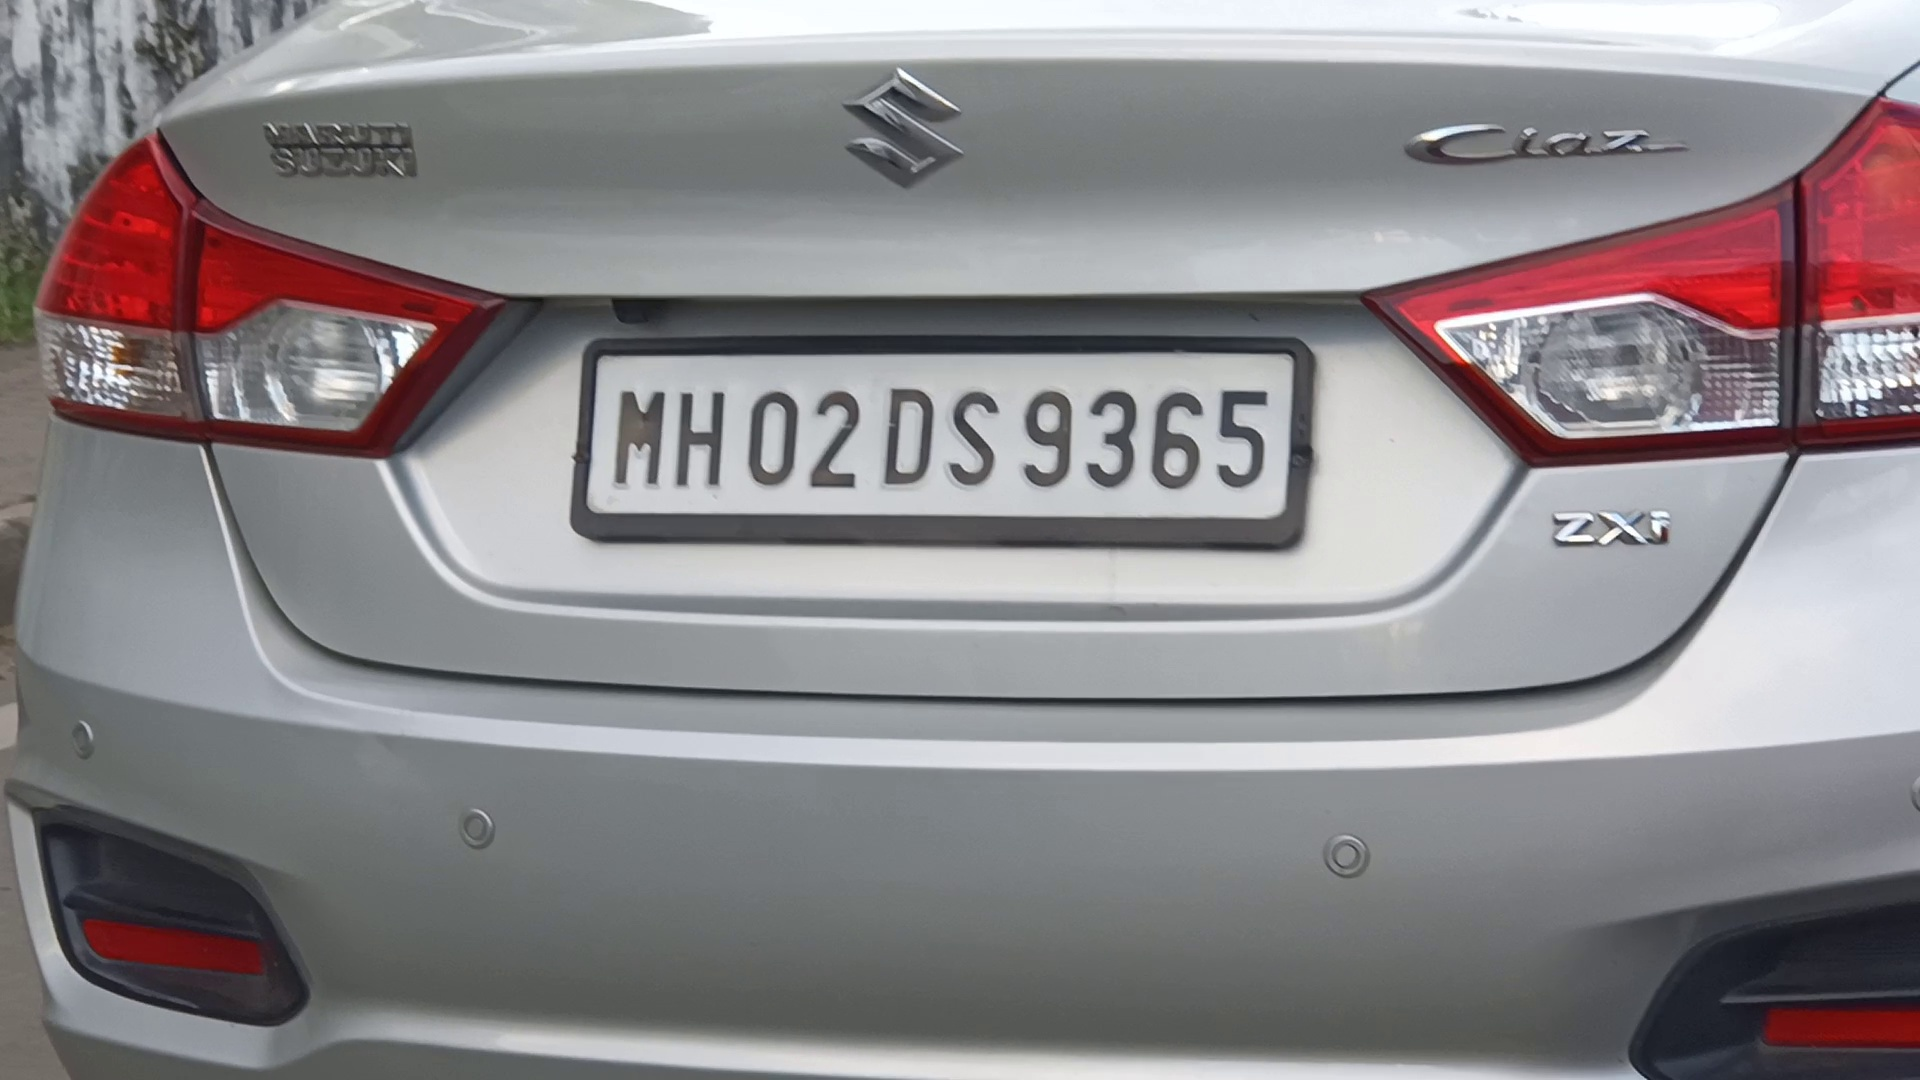MH02DS9365: (582, 349, 1292, 518)
